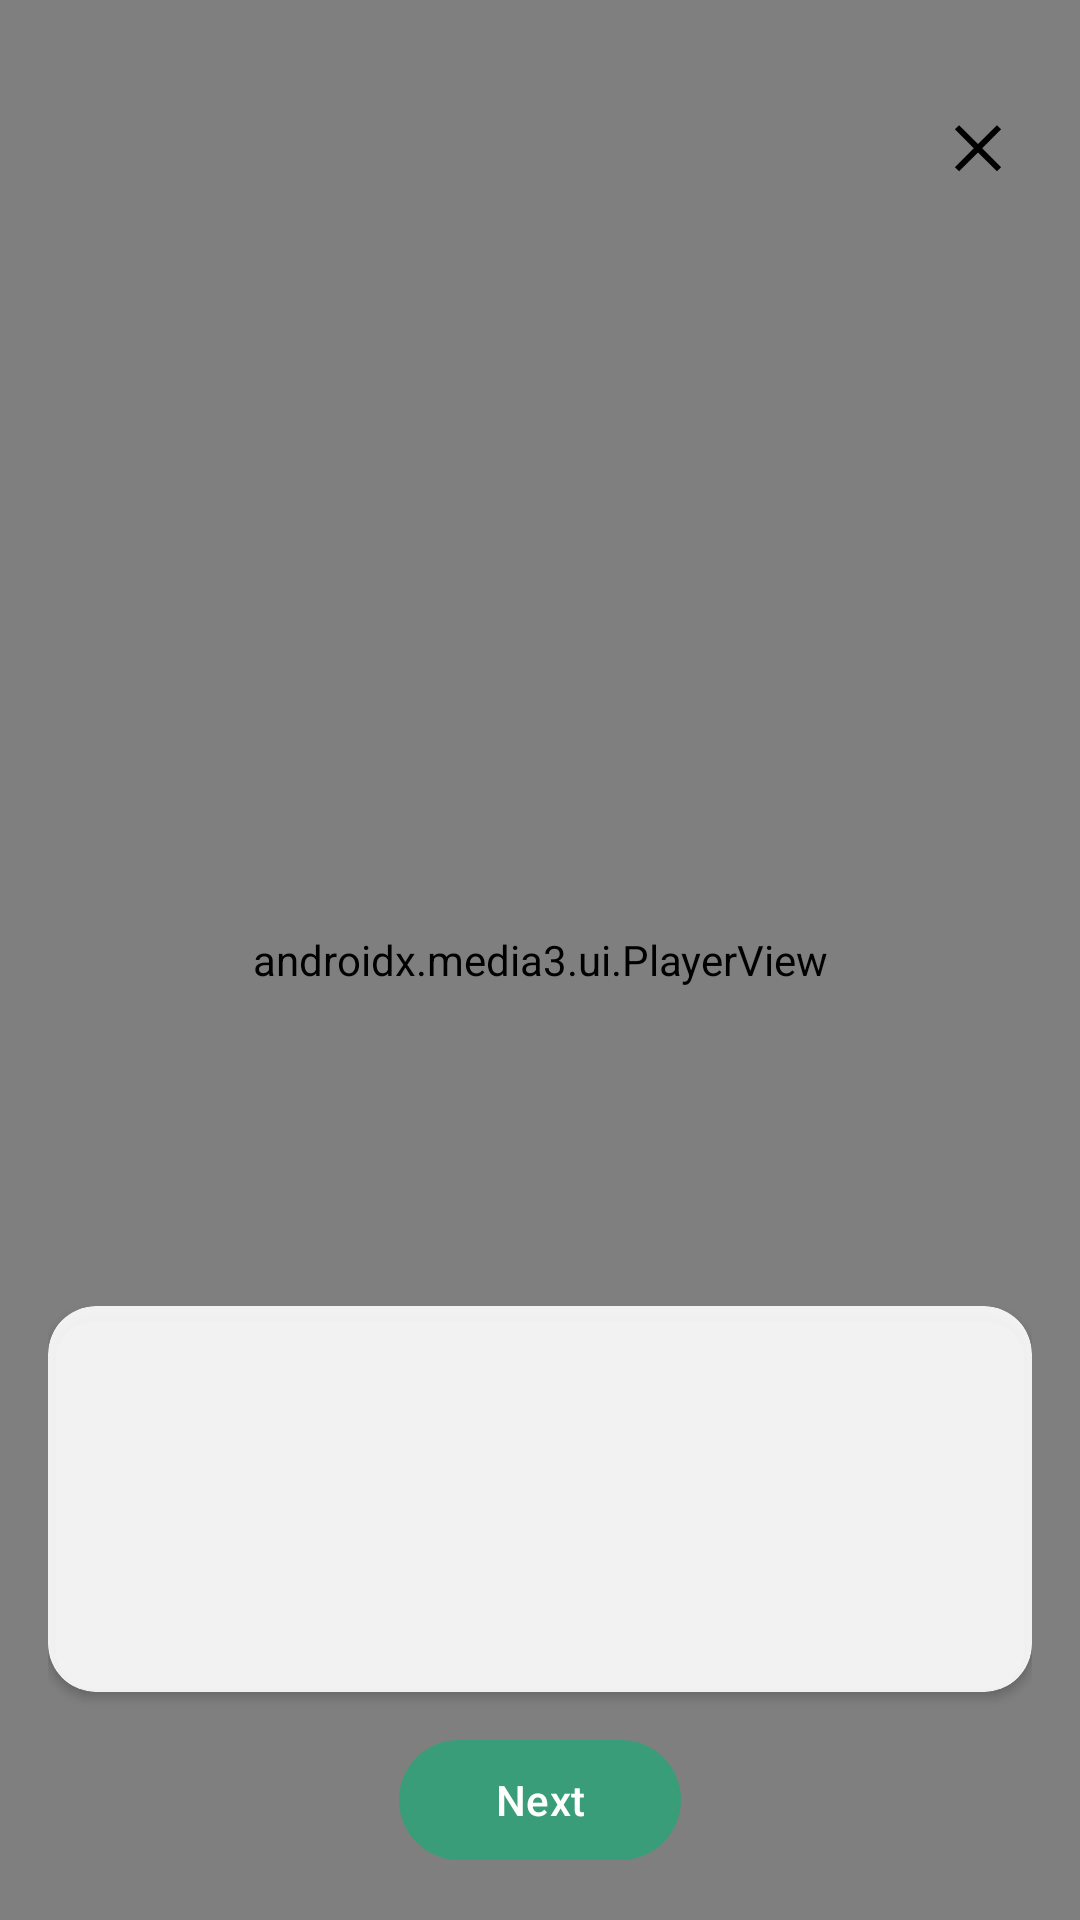

Icons on this 1080x1920 Android screen, each with its box as bbox(x1, y1, x2, y2):
Exit: bbox(955, 125, 1001, 171)
